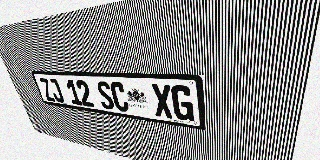1: (64, 79, 83, 106)
2: (75, 80, 94, 107)
C: (109, 82, 130, 112)
G: (171, 85, 194, 122)
J: (47, 78, 65, 103)
S: (95, 81, 116, 110)
X: (151, 84, 174, 119)
Z: (38, 78, 56, 102)
